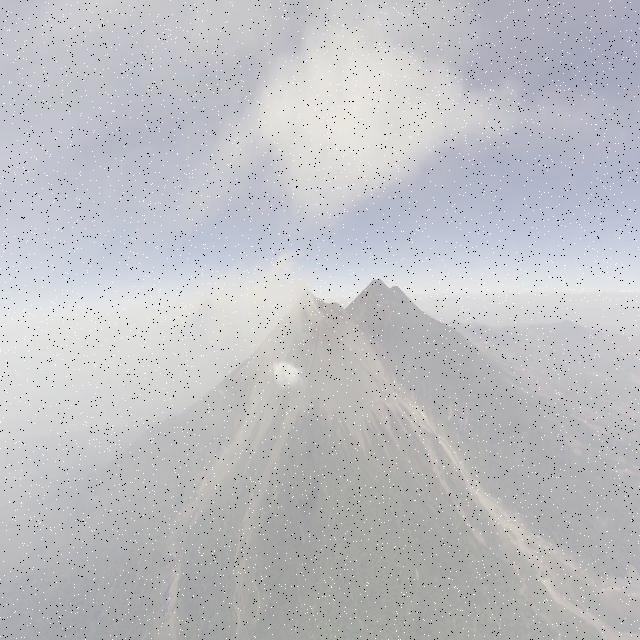Plume: (228, 10, 582, 232), (205, 250, 316, 392)
